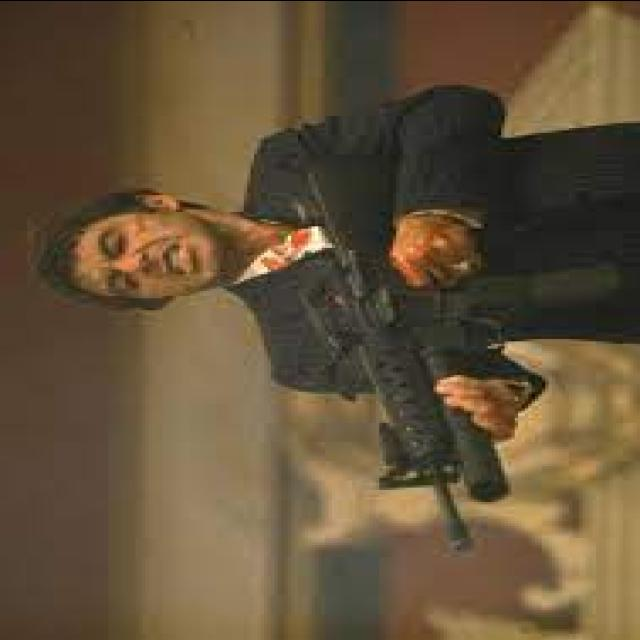weapons: (248, 135, 558, 562)
